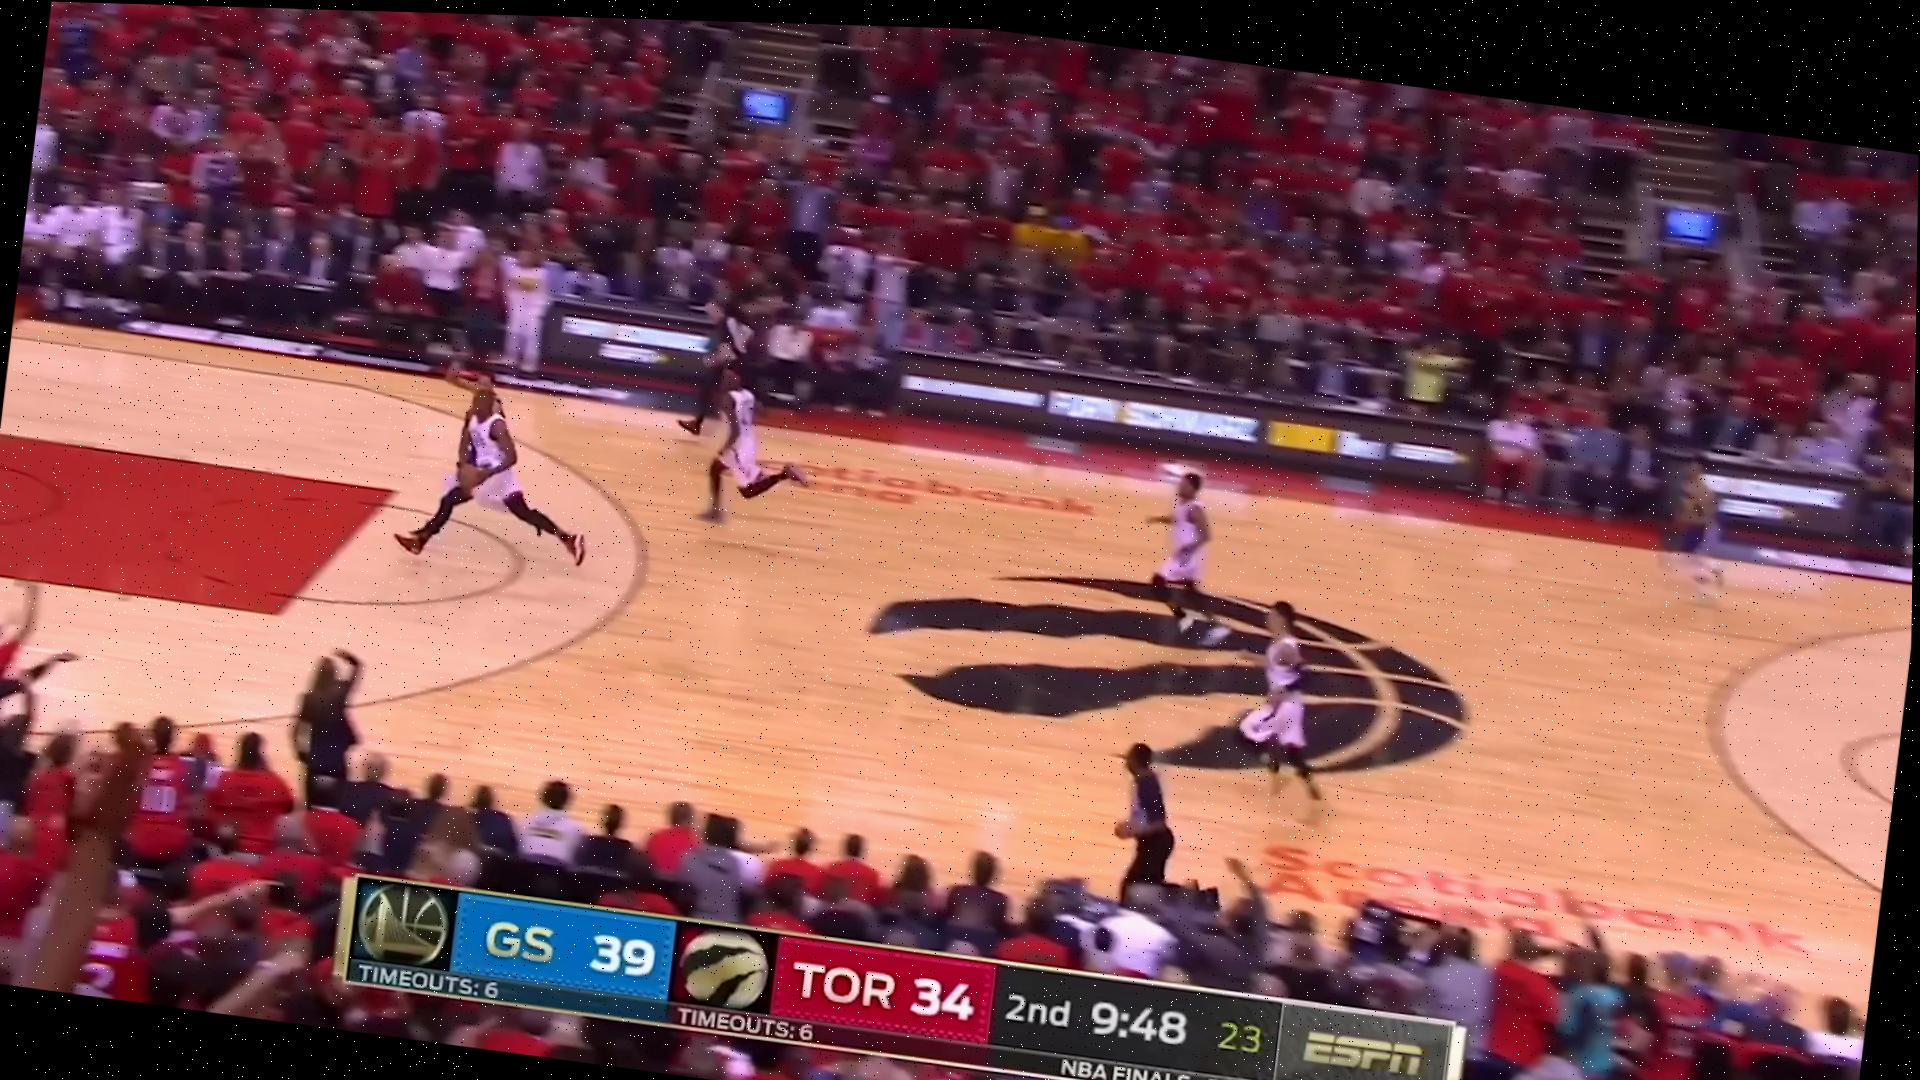no_foul: (373, 348, 611, 585)
